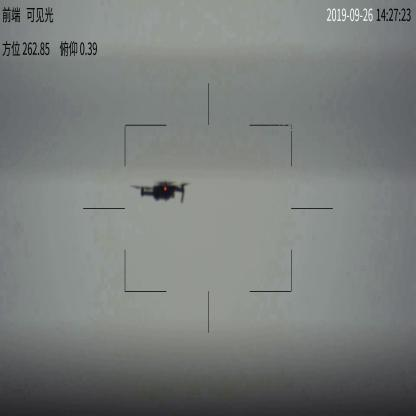uav: (128, 179, 195, 205)
